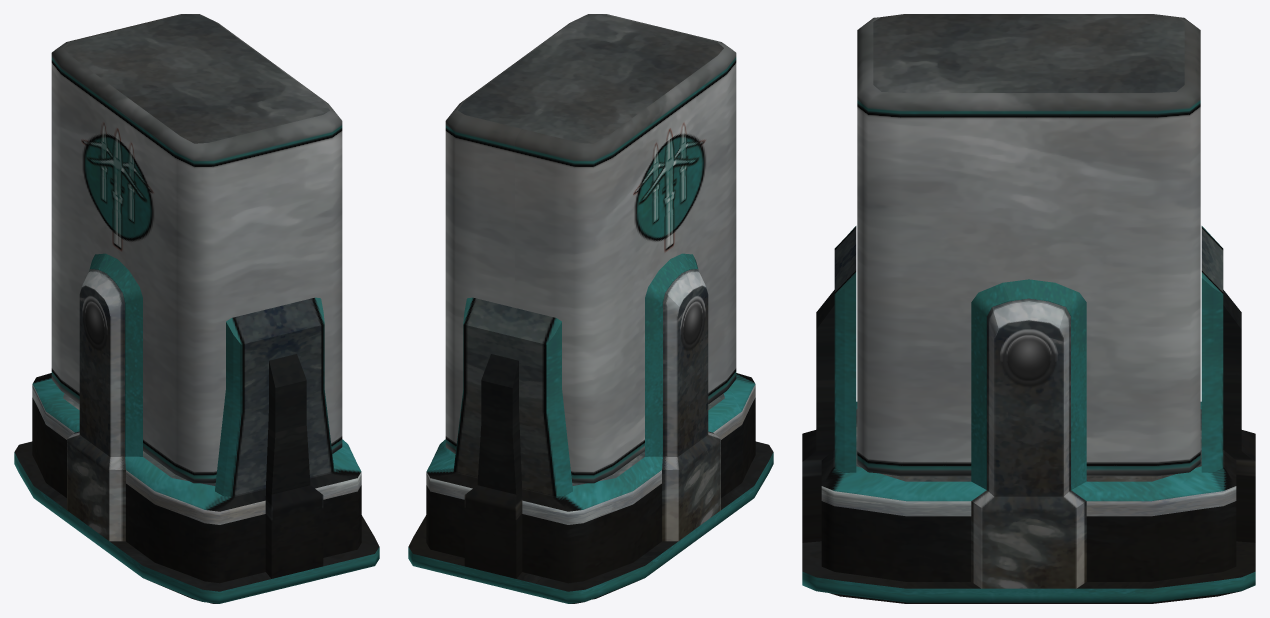
File: ITEM_Spears 2.fbx
3 renders of one model, left to right at view 1: azimuth 30°, elevation 25°; view 2: azimuth 150°, elevation 25°; view 3: azimuth 270°, elevation 25°, orthographic. The views are drawn at different scales.
Parts seen in each view (by area): view 1: Top_Lid, Bottom_Base; view 2: Top_Lid, Bottom_Base; view 3: Top_Lid, Bottom_Base.
Part boxes in pixels (left/top/right/bottom): Top_Lid: left=51, top=14, right=342, bottom=483; Bottom_Base: left=14, top=253, right=379, bottom=603; Top_Lid: left=445, top=14, right=736, bottom=483; Bottom_Base: left=408, top=253, right=773, bottom=603; Top_Lid: left=857, top=14, right=1200, bottom=476; Bottom_Base: left=802, top=226, right=1255, bottom=603.
Size of the model in its own units: 1.91 by 3.68 by 3.05.
